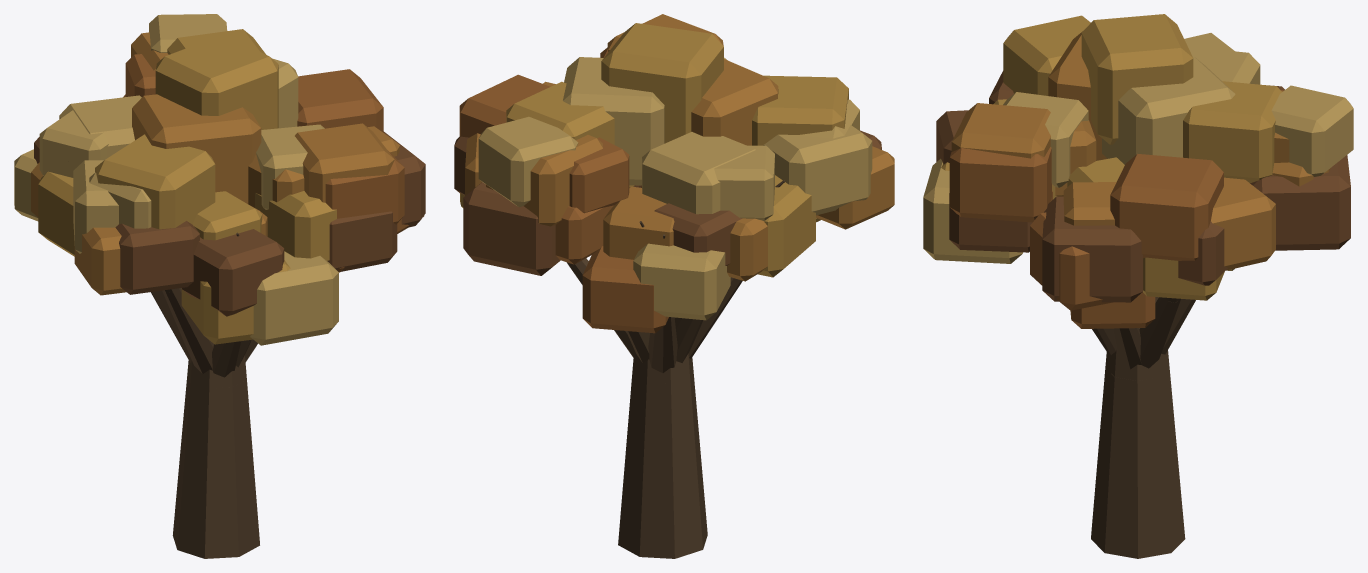
Rendered from oak_mature_autumn.glb.
The picture shows the model from 3 angles, left to right: view 1: azimuth 30°, elevation 25°; view 2: azimuth 150°, elevation 25°; view 3: azimuth 270°, elevation 25°; orthographic projection. The views are drawn at different scales.
Parts seen in each view (by area): view 1: oak_mature_autumn; view 2: oak_mature_autumn; view 3: oak_mature_autumn.
Boxes of the visible parts, x1=… form: oak_mature_autumn: x1=14, y1=14, x2=425, y2=558; oak_mature_autumn: x1=454, y1=14, x2=894, y2=558; oak_mature_autumn: x1=923, y1=14, x2=1353, y2=558.
Bounding box in the file's own units: 12.88 × 17 × 13.13.
